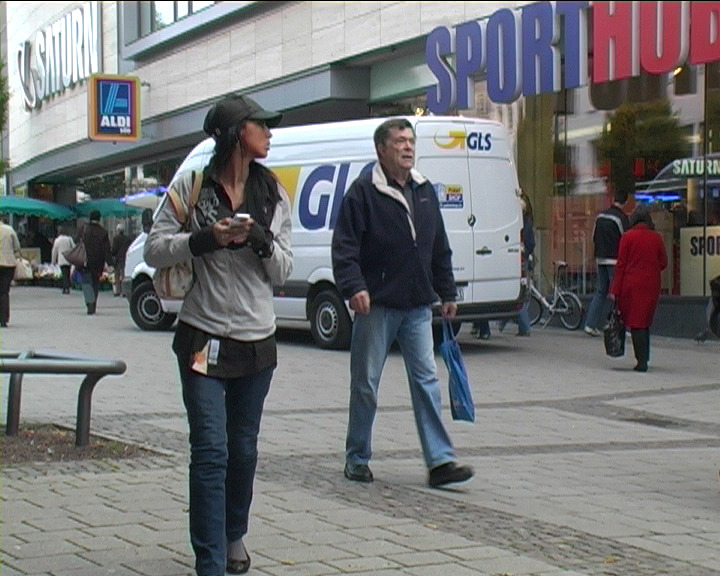deflection: (171, 101, 299, 283)
